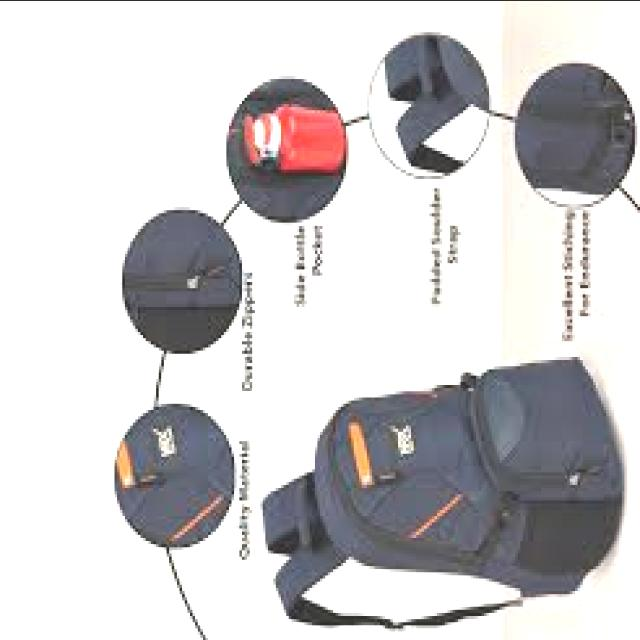backpack: (261, 358, 623, 632)
